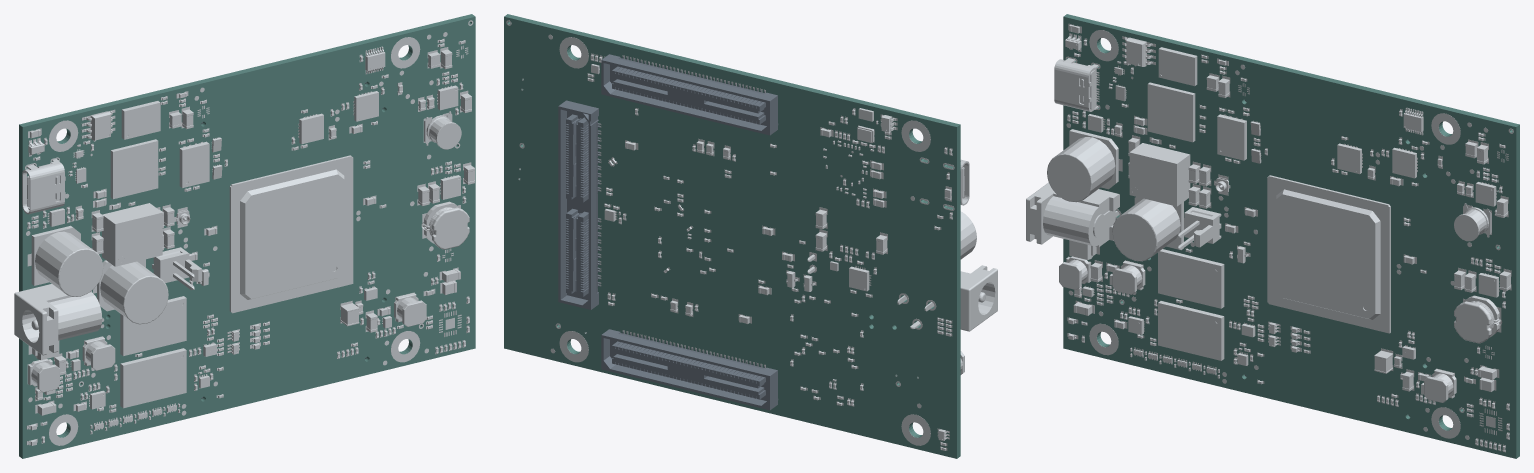
File: xem8310.glb
3 renders of one model, left to right at view 1: azimuth 30°, elevation 25°; view 2: azimuth 150°, elevation 25°; view 3: azimuth 330°, elevation 25°, orthographic.
Visible parts, largest first — view 1: board, components; view 2: board, connectors, components; view 3: board, components.
Boxes of the visible parts, x1,y1,x2,y2 form: board: (19,14,475,458); components: (14,20,474,445); board: (504,14,960,458); connectors: (558,54,778,410); components: (506,20,997,450); board: (1063,14,1519,458); components: (1026,23,1513,452).
Size of the model in its own units: 102 by 70 by 15.71.
